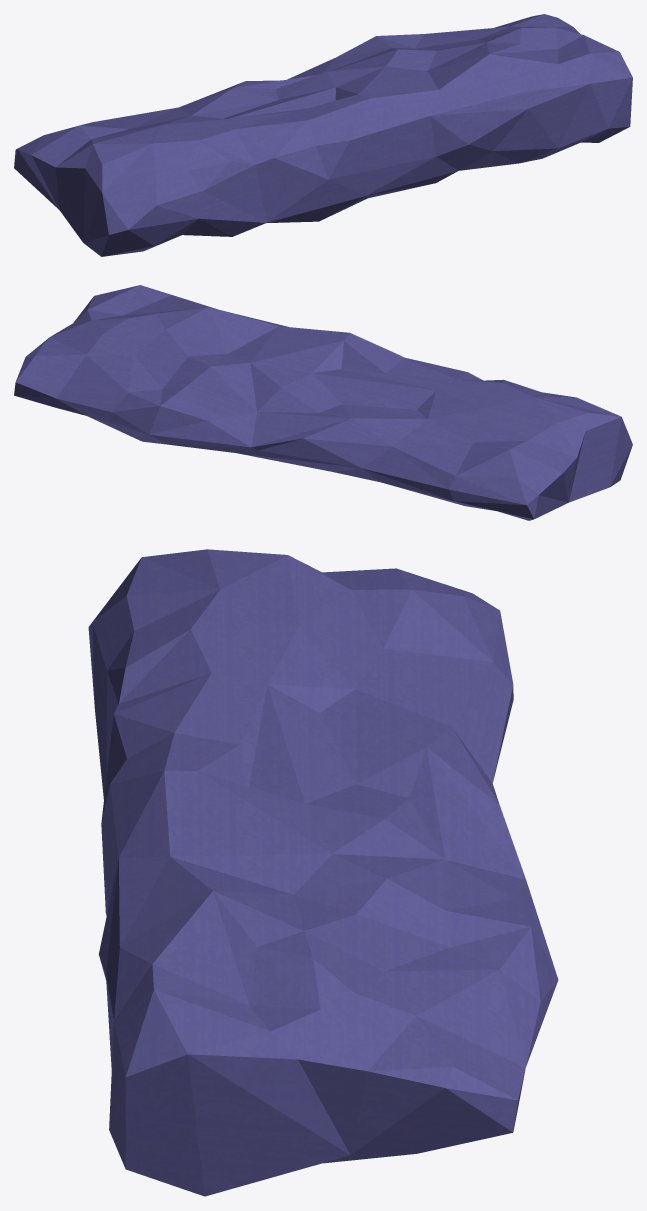
The model's file is Elder_IceWall4P2.fbx.
The picture shows the model from 3 angles, top to bottom: view 1: azimuth 30°, elevation 25°; view 2: azimuth 150°, elevation 25°; view 3: azimuth 270°, elevation 25°; orthographic projection. The views are drawn at different scales.
Parts seen in each view (by area): view 1: Elder_IceWall4P2; view 2: Elder_IceWall4P2; view 3: Elder_IceWall4P2.
Part boxes in pixels (x1=…): Elder_IceWall4P2: x1=14, y1=14, x2=632, y2=256; Elder_IceWall4P2: x1=14, y1=285, x2=632, y2=520; Elder_IceWall4P2: x1=88, y1=549, x2=558, y2=1196.
Bounding box in the file's own units: 1397 × 274 × 541.
1 material, 1 textured.
